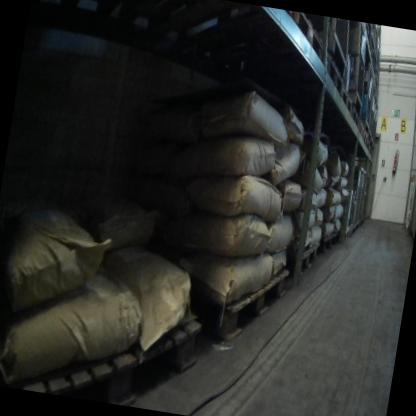pallet: (12, 288, 208, 413), (169, 246, 292, 357), (268, 10, 330, 77), (281, 236, 320, 286), (301, 226, 340, 275), (314, 50, 346, 103), (337, 80, 356, 122), (346, 107, 361, 132), (354, 118, 367, 141), (371, 73, 383, 97), (340, 225, 351, 244), (366, 40, 375, 61), (361, 129, 369, 147), (364, 139, 372, 156)
stillage: (338, 21, 376, 117), (340, 158, 366, 235), (321, 18, 354, 72), (355, 60, 379, 130), (363, 78, 380, 140), (352, 170, 368, 232), (367, 100, 383, 149), (371, 28, 385, 78), (369, 25, 383, 65)
